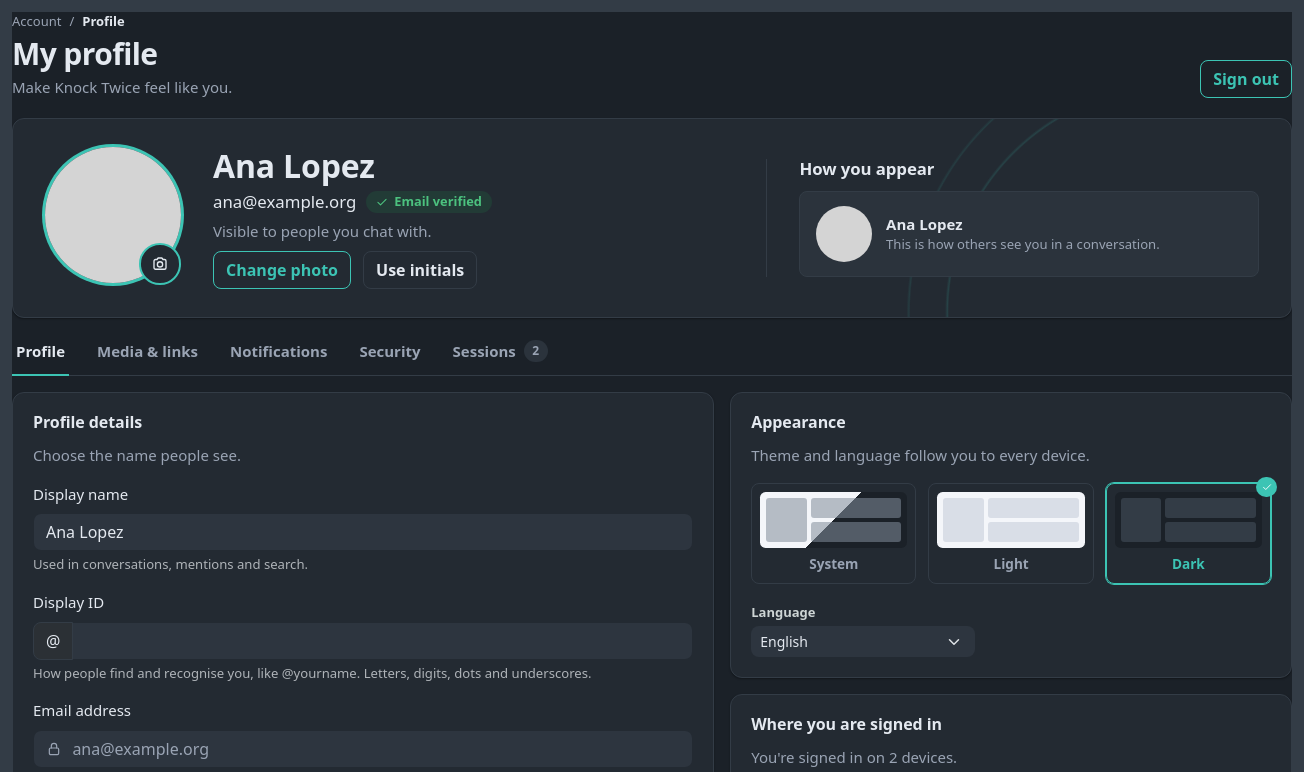
My profile (redesign 2026-11) › shows how you appear, the photo and the session count, and switches back to initials
Expected: the heading "My profile" is shown, x1=12 y1=32 x2=157 y2=74
Expected: the heading "Ana Lopez" is shown, x1=213 y1=144 x2=375 y2=187
Step 1. Click the button "Use initials" → (420, 270), box x1=363 y1=251 x2=477 y2=289
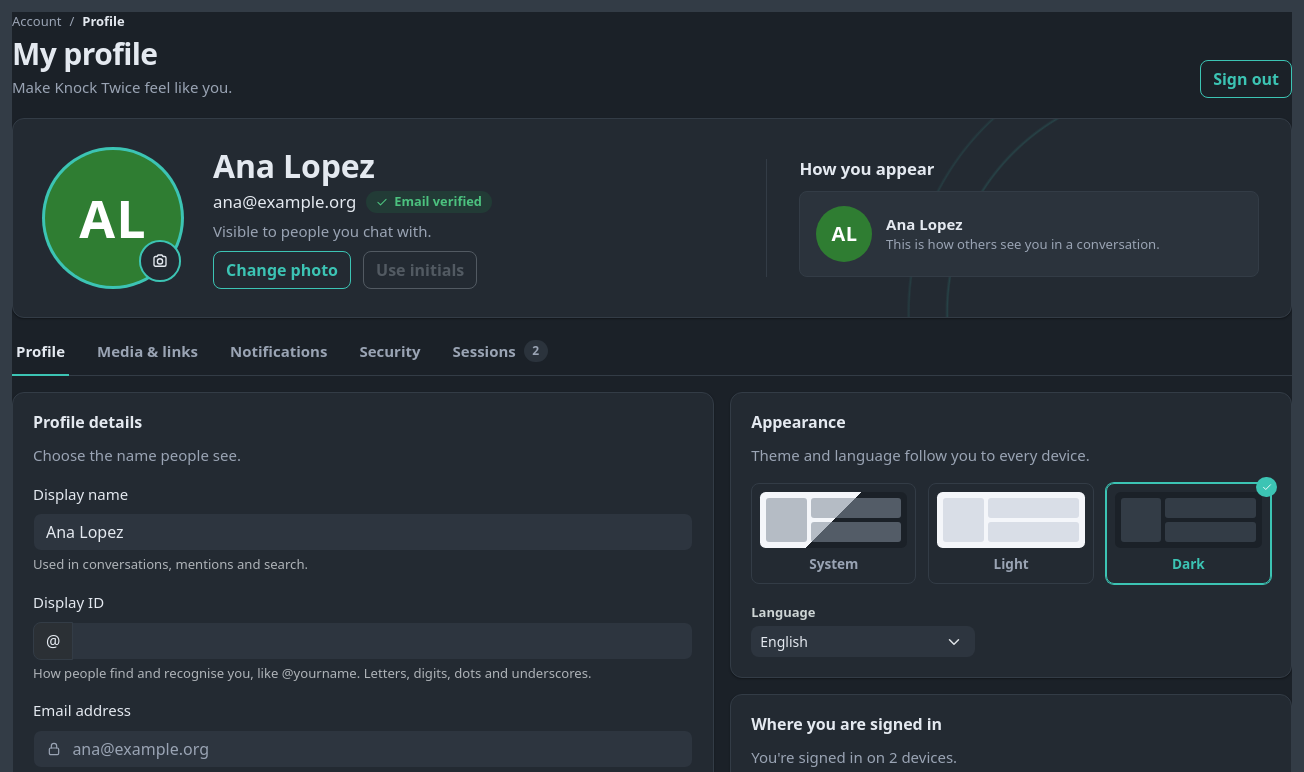
Expected: the button "Use initials" is disabled, x1=363 y1=251 x2=477 y2=289
Expected: the picture is gone
